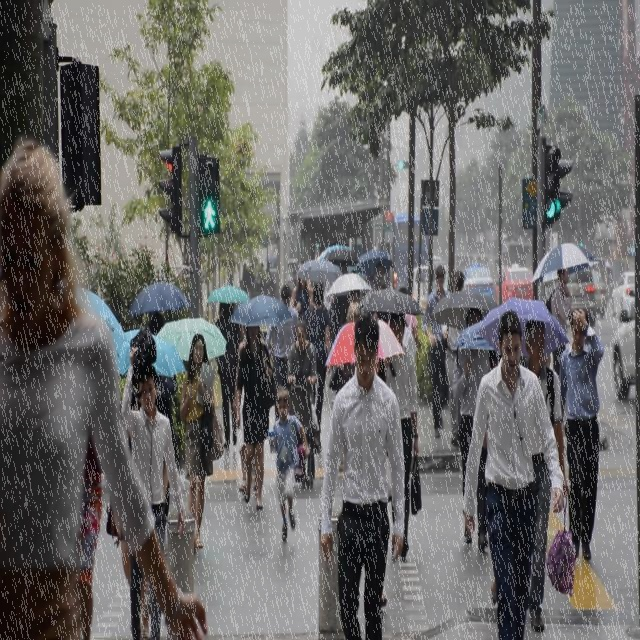pessoa: (1, 140, 210, 640), (458, 308, 562, 640), (320, 314, 406, 640), (116, 346, 184, 640), (520, 318, 572, 635), (120, 344, 171, 640), (350, 338, 396, 606), (558, 305, 604, 562), (174, 331, 226, 551), (382, 310, 420, 558), (454, 308, 492, 548), (234, 313, 274, 512), (146, 310, 179, 530), (233, 322, 272, 499), (268, 386, 310, 542), (78, 426, 105, 638), (422, 264, 452, 439), (288, 319, 318, 489), (264, 284, 298, 421), (214, 302, 242, 448), (306, 282, 332, 436), (442, 268, 464, 444), (544, 268, 572, 380), (234, 244, 281, 298), (398, 286, 419, 340), (290, 274, 314, 316), (602, 260, 618, 318), (368, 260, 389, 292), (347, 290, 360, 324), (336, 261, 358, 278)
